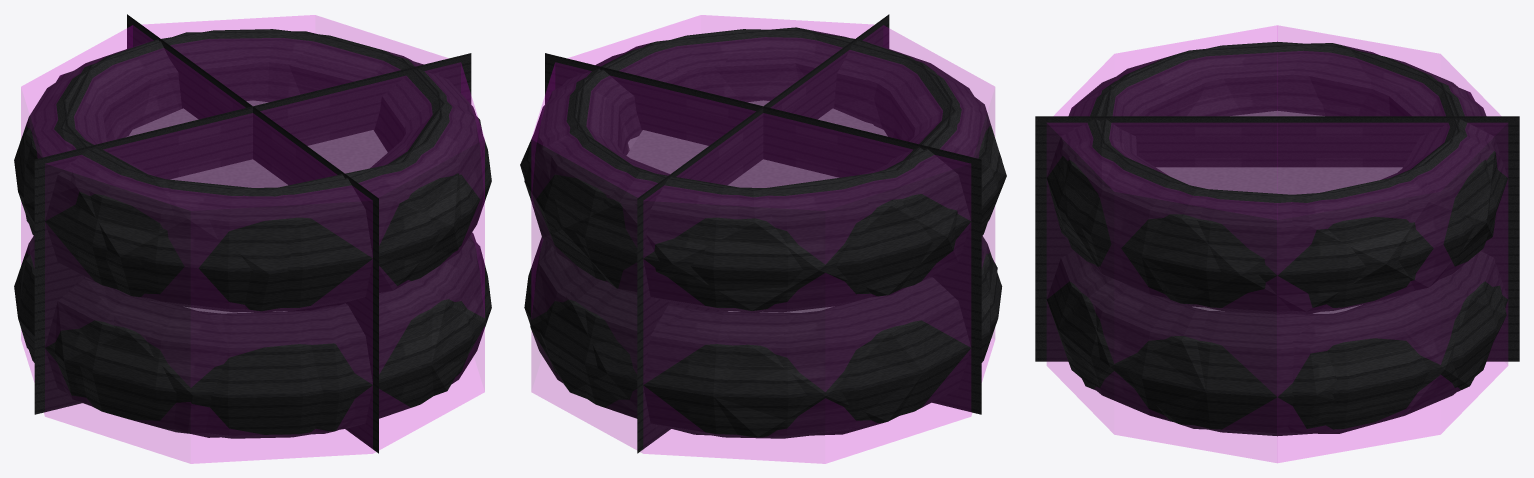
The model's file is tire_stack_2.dae.
3 renders of one model, left to right at view 1: azimuth 30°, elevation 25°; view 2: azimuth 150°, elevation 25°; view 3: azimuth 270°, elevation 25°, orthographic. The views are drawn at different scales.
Parts seen in each view (by area): view 1: Colmesh_stack-1, tire_stack_2_a800, tire_stack_2_a200, tire_stack_2_a50; view 2: Colmesh_stack-1, tire_stack_2_a800, tire_stack_2_a200, tire_stack_2_a50; view 3: Colmesh_stack-1, tire_stack_2_a800, tire_stack_2_a200, tire_stack_2_a50.
Part boxes in pixels (bbox=[...]): Colmesh_stack-1: bbox=[21, 15, 484, 463]; tire_stack_2_a800: bbox=[14, 29, 491, 438]; tire_stack_2_a200: bbox=[18, 31, 491, 437]; tire_stack_2_a50: bbox=[34, 14, 471, 453]; Colmesh_stack-1: bbox=[531, 15, 994, 463]; tire_stack_2_a800: bbox=[524, 29, 1002, 438]; tire_stack_2_a200: bbox=[520, 27, 1006, 437]; tire_stack_2_a50: bbox=[545, 14, 981, 453]; Colmesh_stack-1: bbox=[1047, 25, 1507, 462]; tire_stack_2_a800: bbox=[1046, 41, 1508, 436]; tire_stack_2_a200: bbox=[1046, 43, 1506, 433]; tire_stack_2_a50: bbox=[1035, 116, 1519, 361].
Size of the model in its own units: 0.798 by 0.798 by 0.4532.
3 materials, 2 textured.
